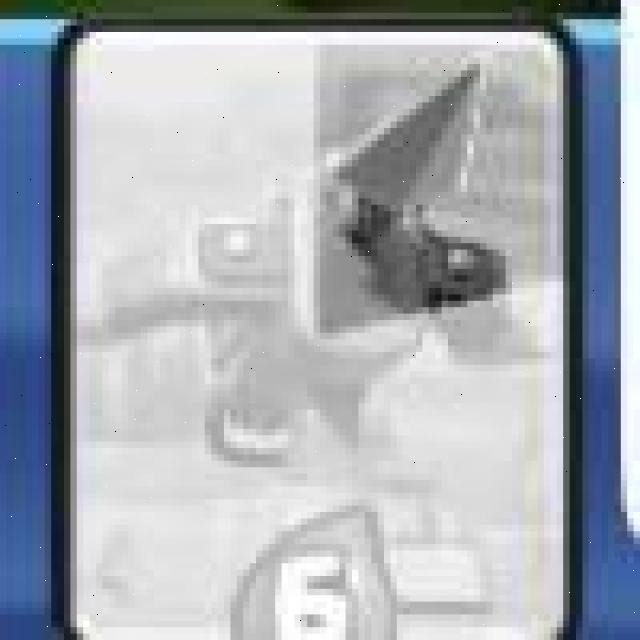X_Bow: (60, 22, 572, 640)
